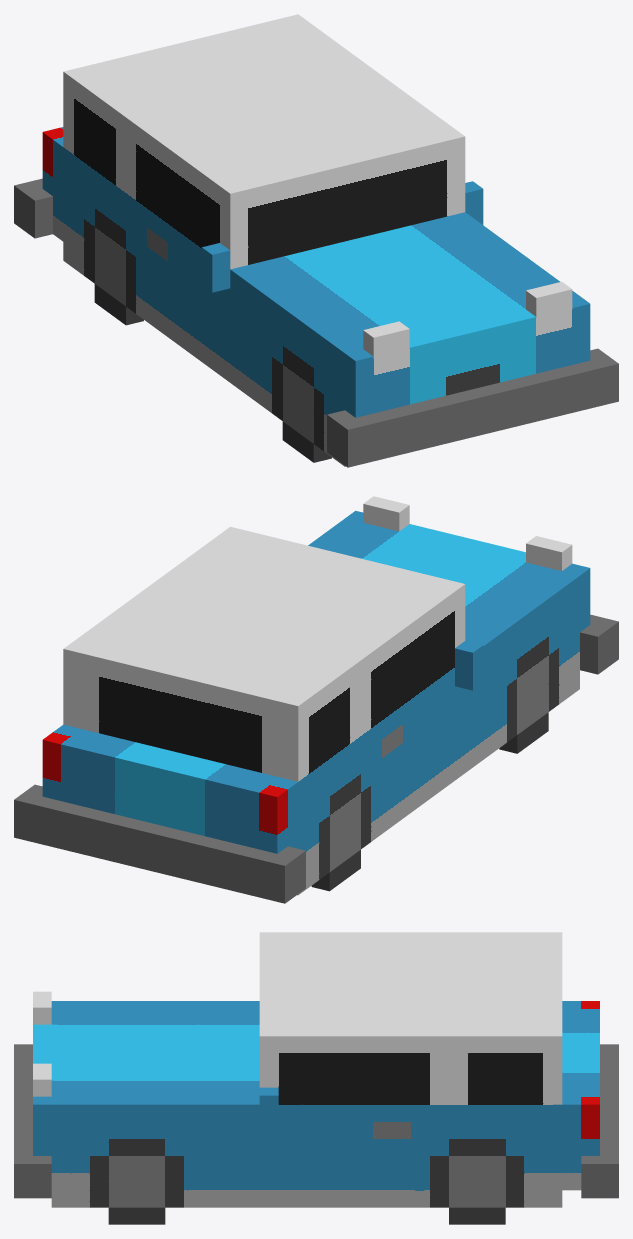
The model's file is veh_wagon1.dae.
3 views of the same model, one above another, from view 1: azimuth 30°, elevation 25°; view 2: azimuth 150°, elevation 25°; view 3: azimuth 270°, elevation 25° (orthographic). The views are drawn at different scales.
Visible parts, largest first — view 1: veh_wagon1; view 2: veh_wagon1; view 3: veh_wagon1.
Boxes of the visible parts, left/top/right/bottom form: veh_wagon1: left=14, top=14, right=618, bottom=467; veh_wagon1: left=14, top=496, right=618, bottom=903; veh_wagon1: left=14, top=932, right=618, bottom=1224.
Bounding box in the file's own units: 1.5 × 3.2 × 1.1.
1 material, 1 textured.
